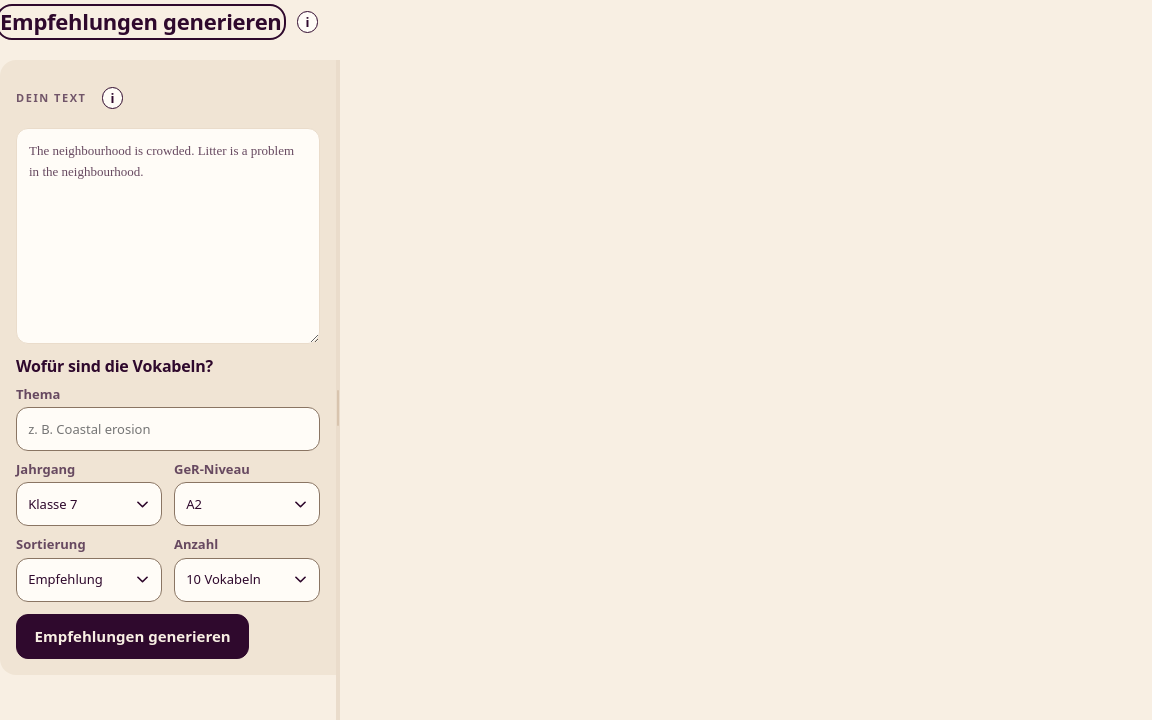
Der Quelltext als Werkzeug › nimmt ein Wort mit einem Klick auf
This screenshot has width=1152, height=720.
Expected: the field labelled "Deutsche Antwort für „crowded“" is not shown
Click the text "crowded": x=169, y=150 [146,143,191,158]
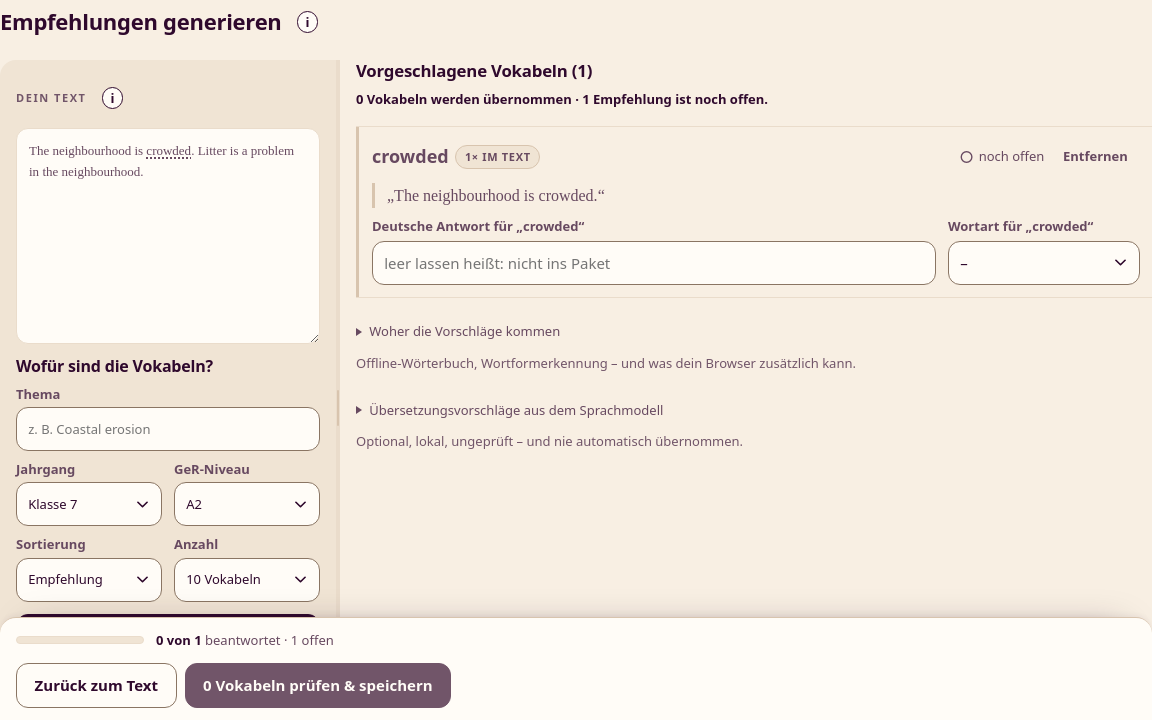
Expected: the field labelled "Deutsche Antwort für „crowded“" is shown, [372,241,936,285]
